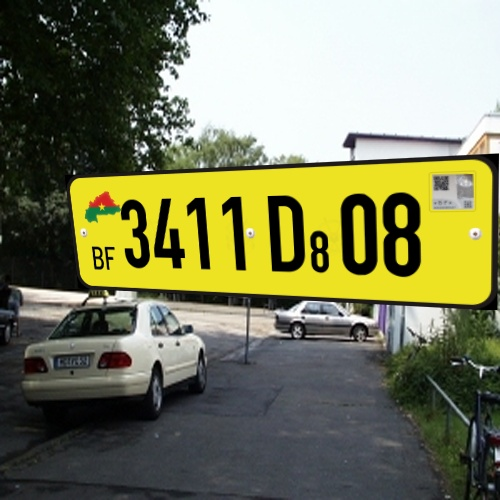plate: (55, 149, 500, 314)
